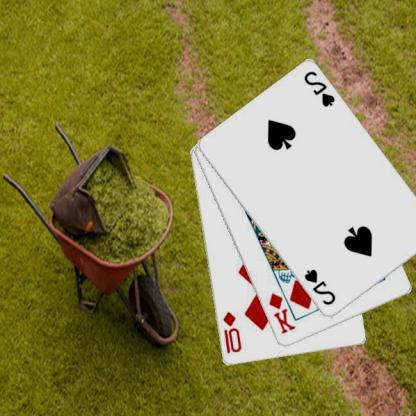10D: (222, 309, 245, 355)
2S: (302, 68, 338, 109), (304, 266, 338, 307)
KD: (268, 290, 298, 335)
